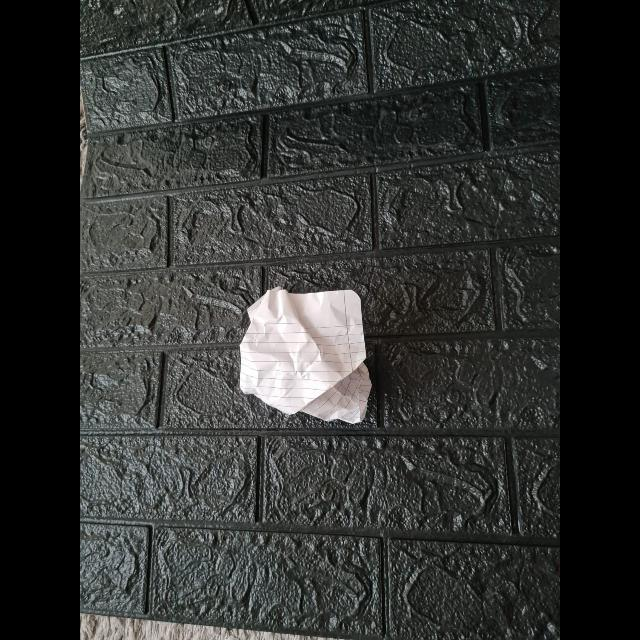scrap_paper: (237, 286, 376, 424)
